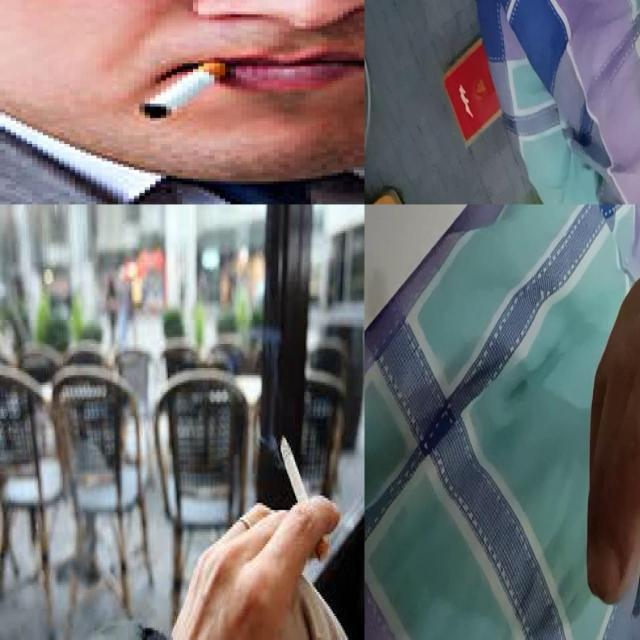smoking: (280, 433, 328, 562), (128, 54, 225, 116)
